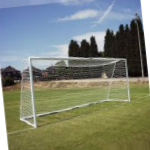goals: (18, 55, 132, 125)
